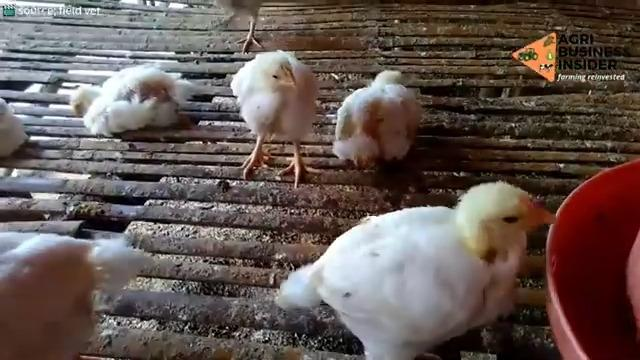Normal: (276, 181, 556, 360), (232, 49, 317, 184)
